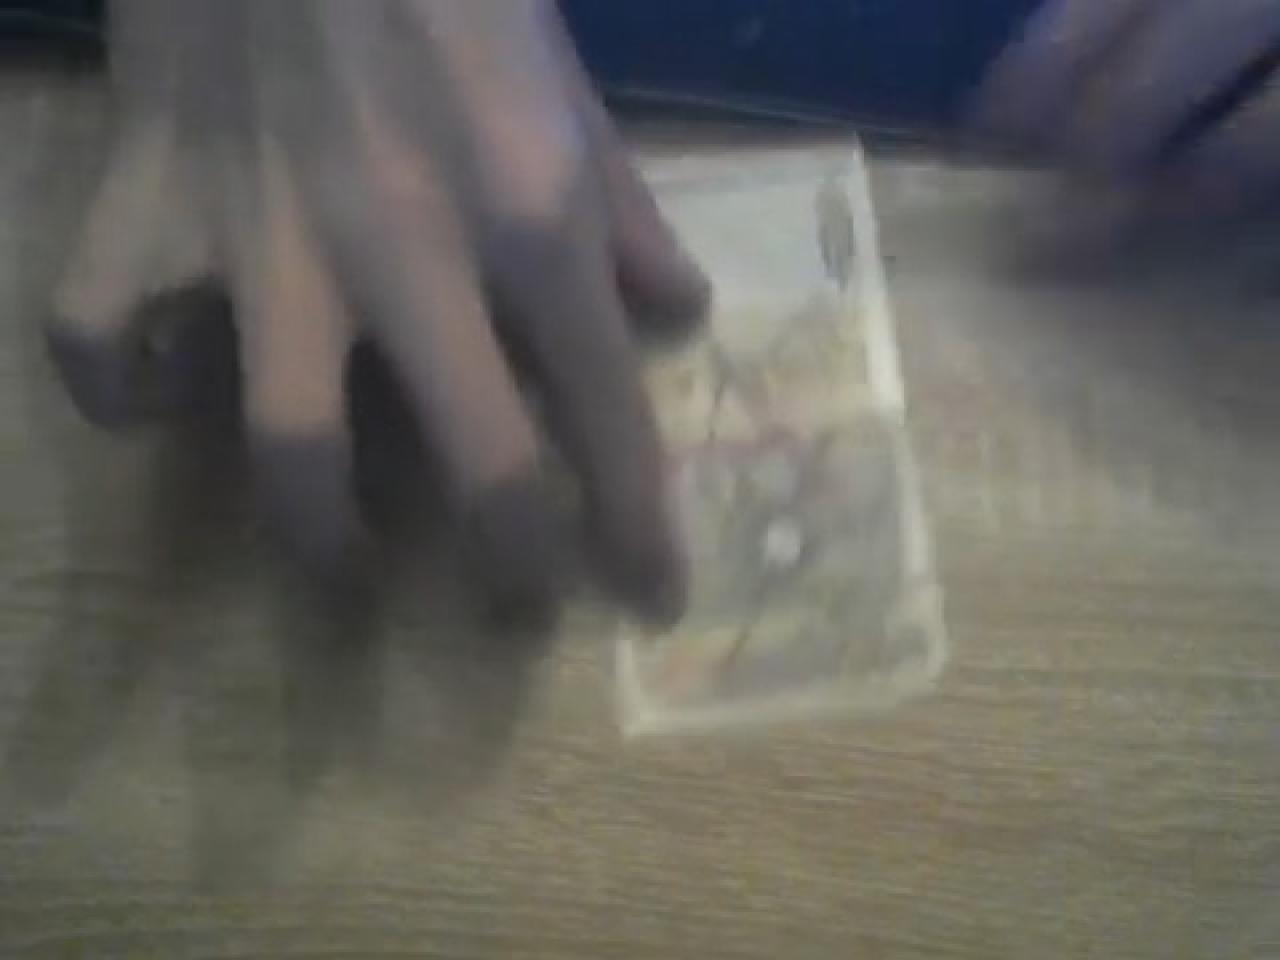10leva: (619, 131, 949, 733)
